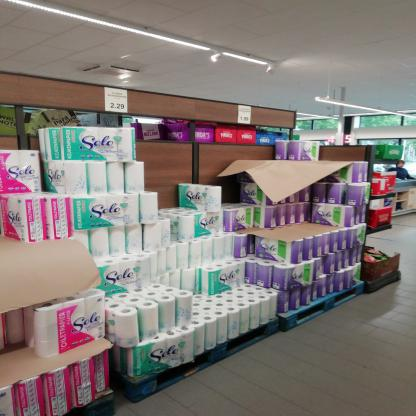prtg: (106, 88, 129, 114), (239, 106, 252, 125)
